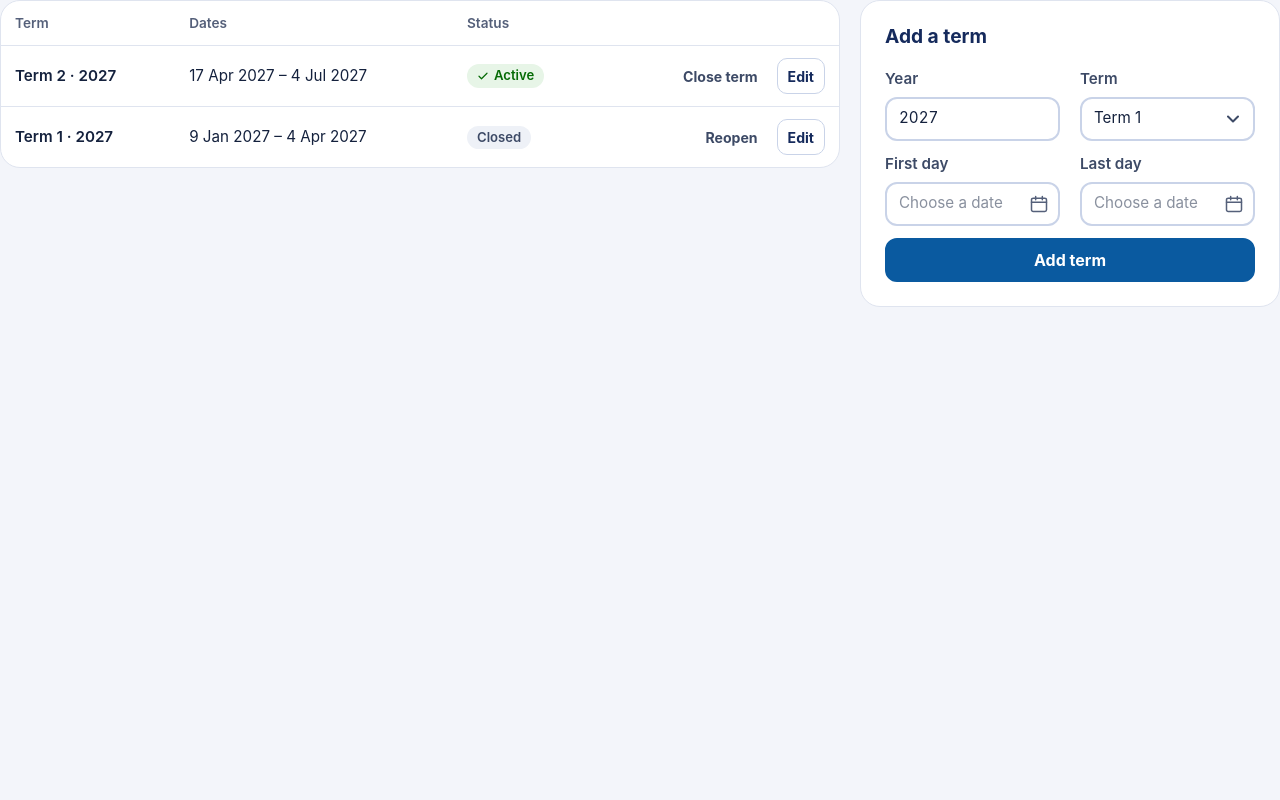
Test case: editing a term › keeps the dialog open and shows why a change was refused
The width and height of the screenshot is (1280, 800).
Click the button "Edit" in the row of "Term 1 · 2027": (801, 137) [777, 119, 825, 155]
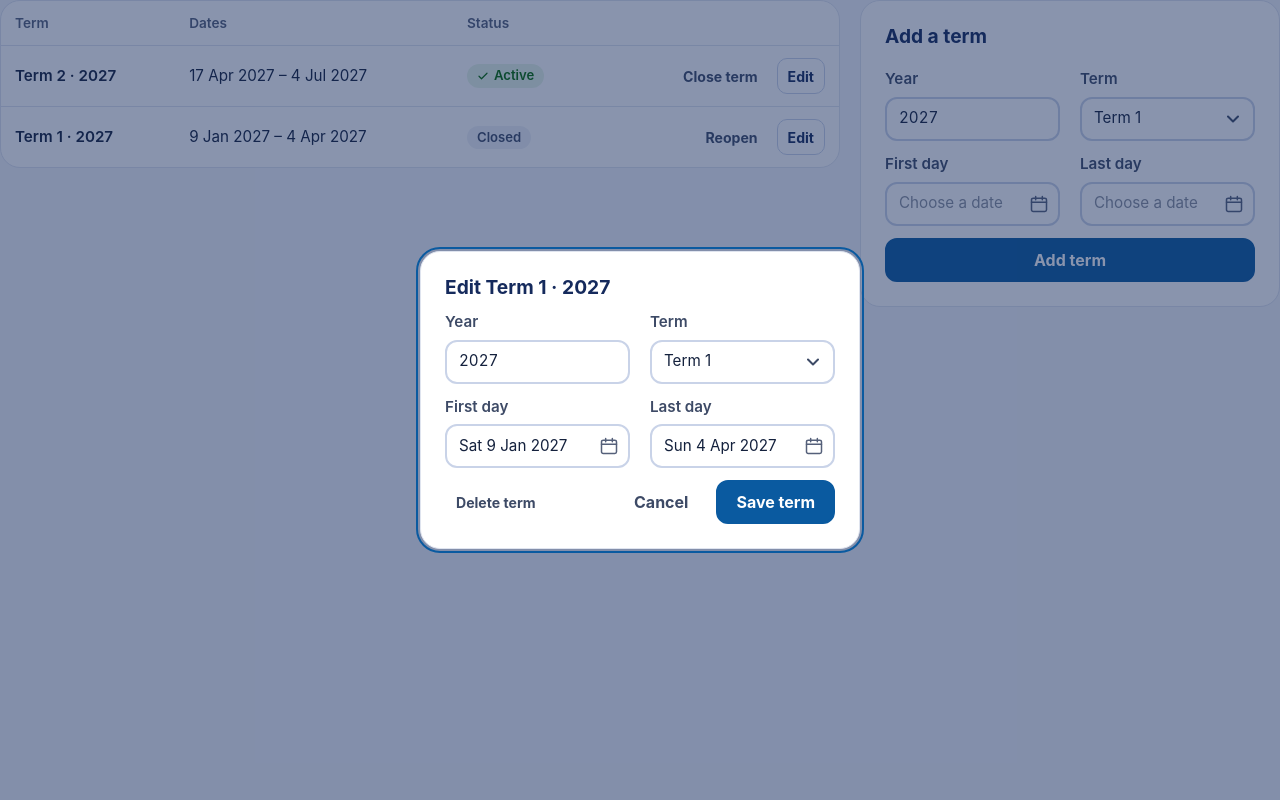
Click the button "Save term": (776, 502) [716, 480, 835, 524]
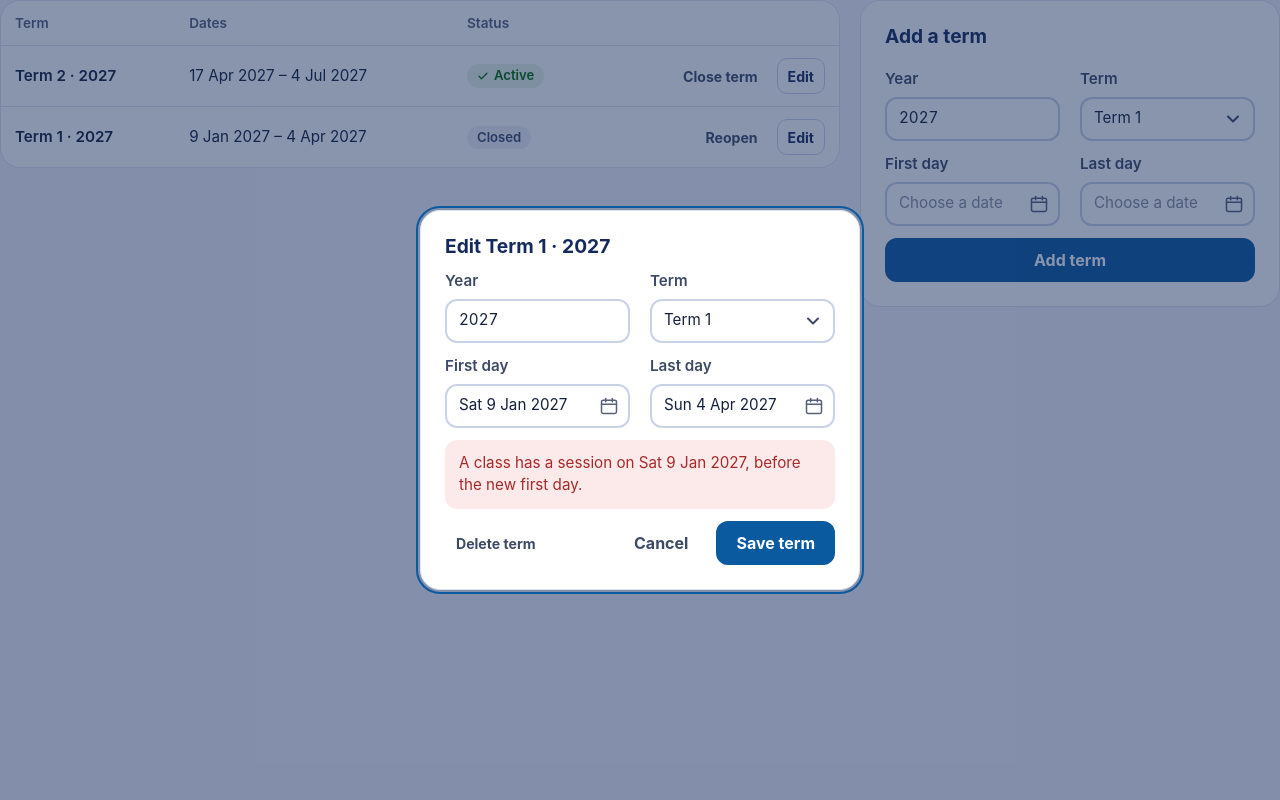
expect the message shows "before the new first day": met, box [459, 452, 801, 494]
